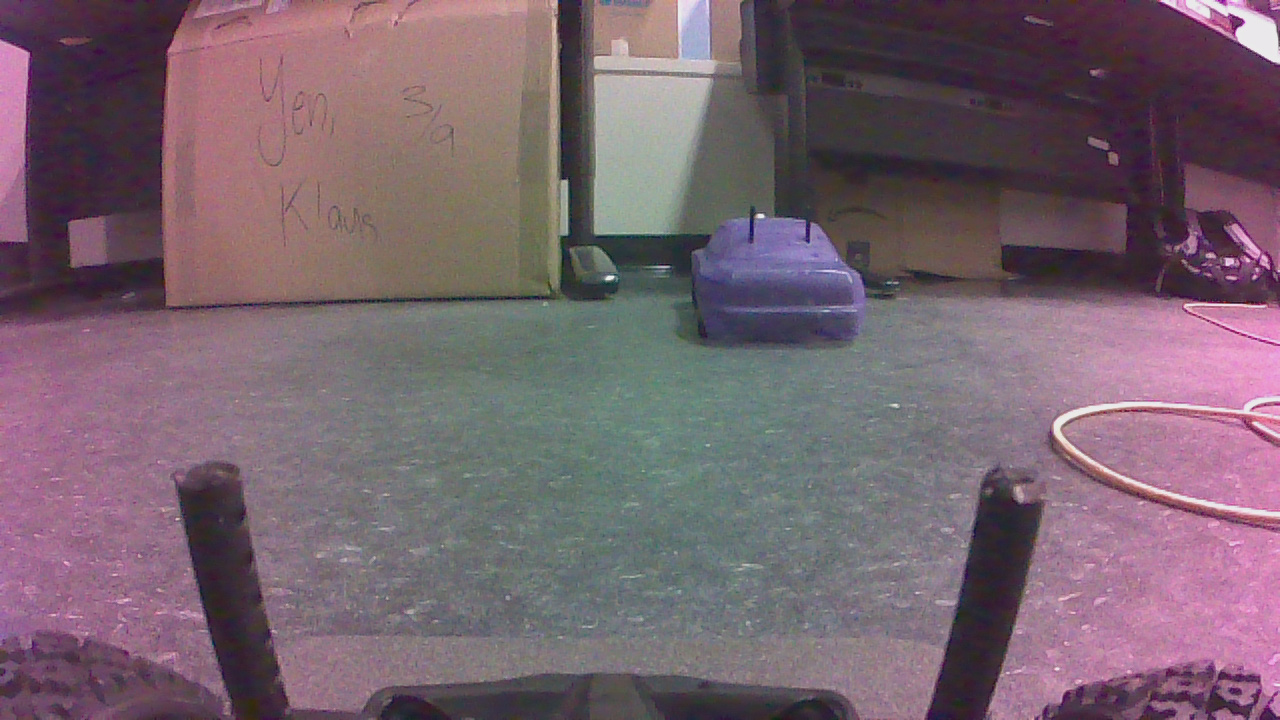opponent: (682, 224, 877, 353)
